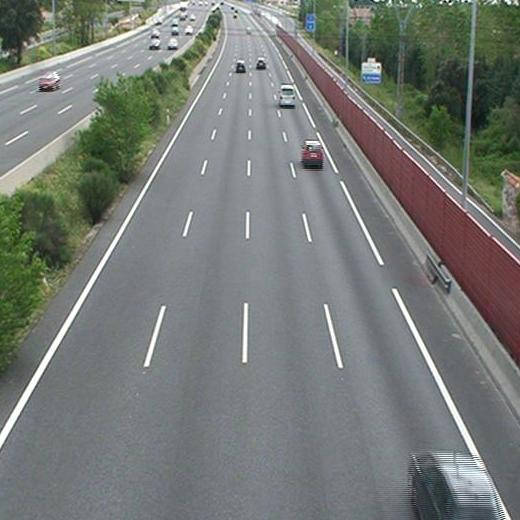car: (411, 453, 499, 520), (303, 141, 323, 165), (255, 58, 266, 68), (236, 59, 245, 71)
van: (279, 85, 296, 105)
